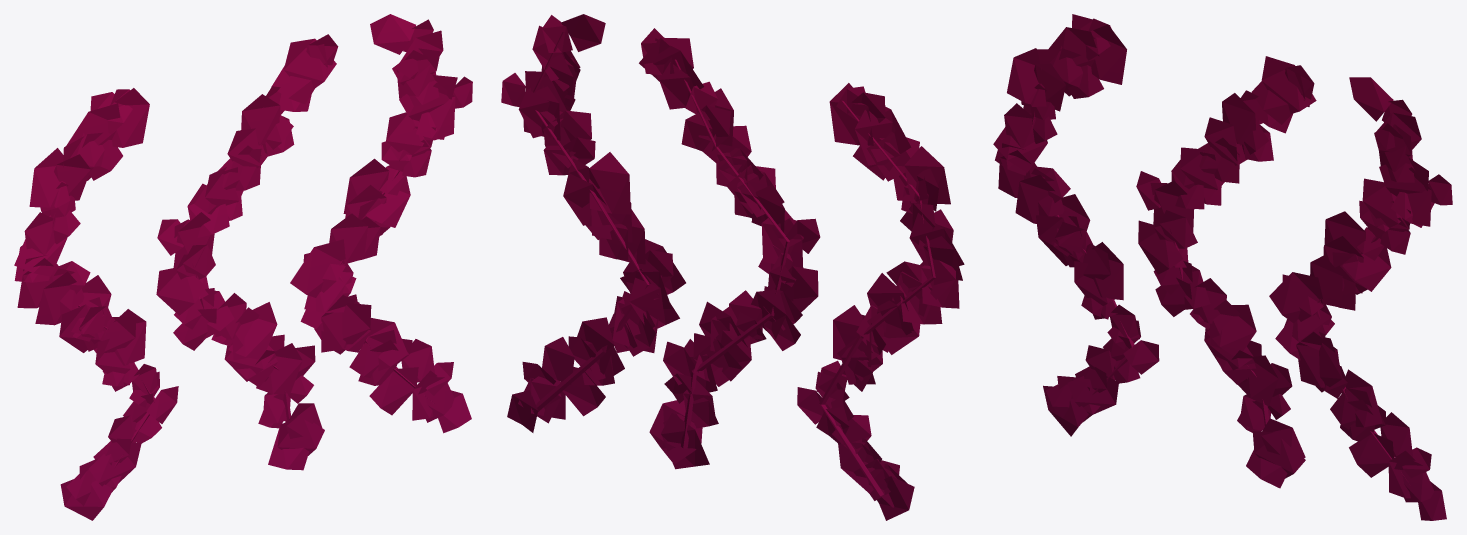
Rendered from vines.glb.
The picture shows the model from 3 angles, left to right: view 1: azimuth 30°, elevation 25°; view 2: azimuth 150°, elevation 25°; view 3: azimuth 330°, elevation 25°; orthographic projection.
Visible parts, largest first — view 1: vines; view 2: vines; view 3: vines.
Boxes of the visible parts, left/top/right/bottom form: vines: left=14, top=14, right=472, bottom=520; vines: left=501, top=14, right=964, bottom=520; vines: left=993, top=14, right=1452, bottom=520.
Bounding box in the file's own units: 2 × 1.8 × 0.07.
